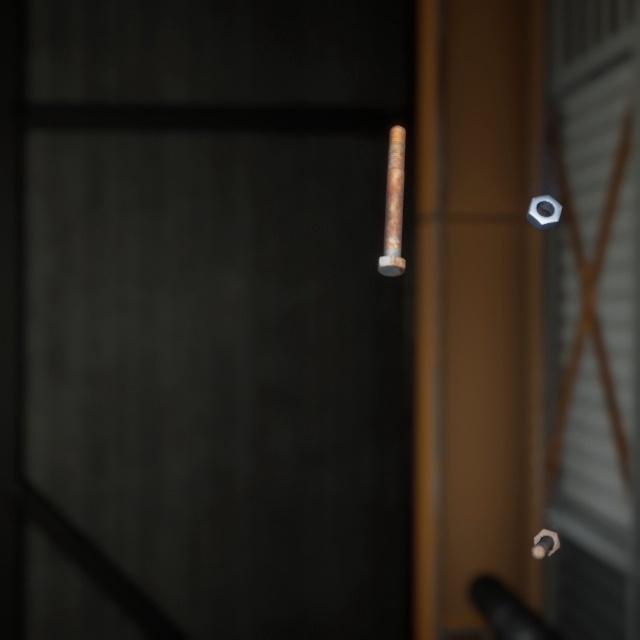bolt: (373, 107, 410, 266), (526, 502, 565, 540)
nut: (521, 175, 566, 220)
